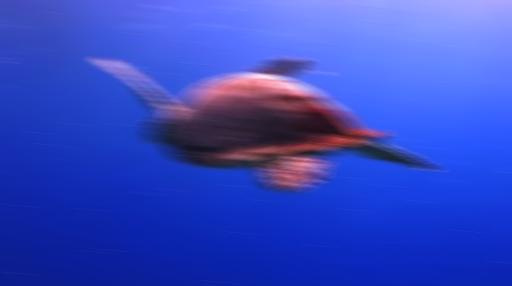Fish: (96, 57, 433, 190)
